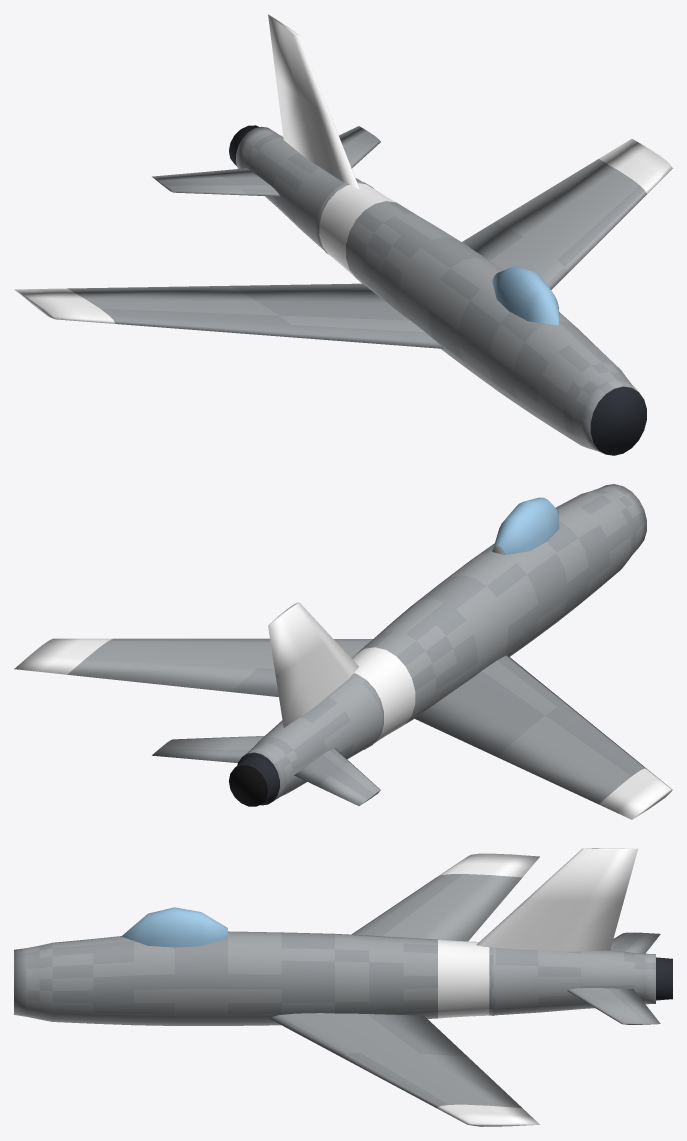
The picture shows the model from 3 angles, top to bottom: view 1: azimuth 30°, elevation 25°; view 2: azimuth 150°, elevation 25°; view 3: azimuth 270°, elevation 25°; orthographic projection. The views are drawn at different scales.
Parts seen in each view (by area): view 1: body; view 2: body; view 3: body.
Part boxes in pixels (x1,y1,x2,y2): body: (14, 14, 672, 455); body: (14, 484, 672, 819); body: (14, 848, 672, 1126).
Bounding box in the file's own units: 11.31 × 3.42 × 11.74.
